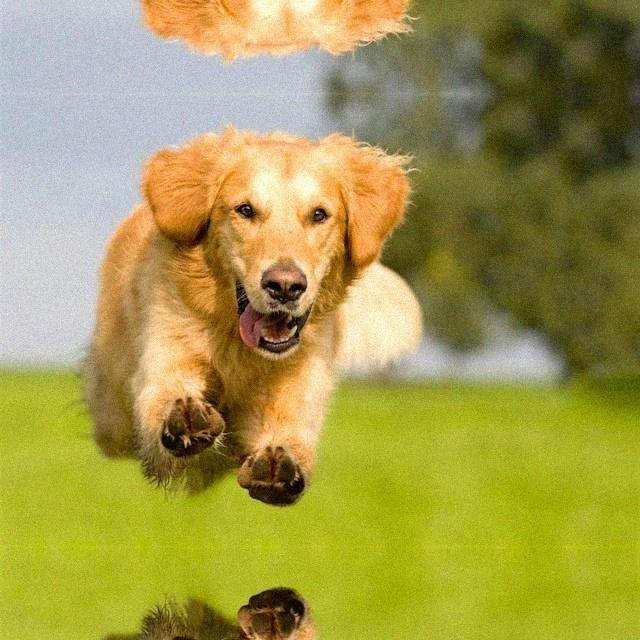dog: (79, 111, 405, 516), (79, 0, 405, 74), (79, 577, 405, 640)
